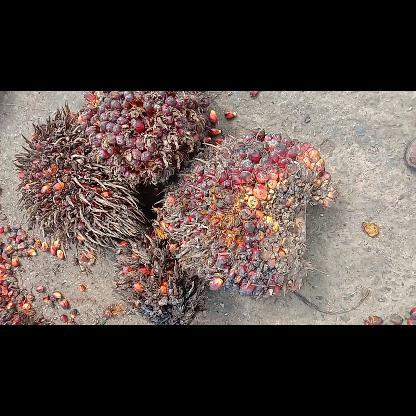TBS masak: (154, 127, 334, 294), (80, 91, 209, 185)
Terlalu masak: (14, 106, 146, 258), (114, 228, 206, 324)
